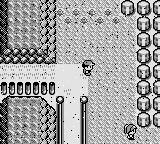main: (82, 61, 95, 76)
no-caminable: (121, 0, 160, 128), (1, 0, 55, 63), (1, 97, 55, 143), (1, 81, 55, 95)
npc: (123, 124, 137, 140)
